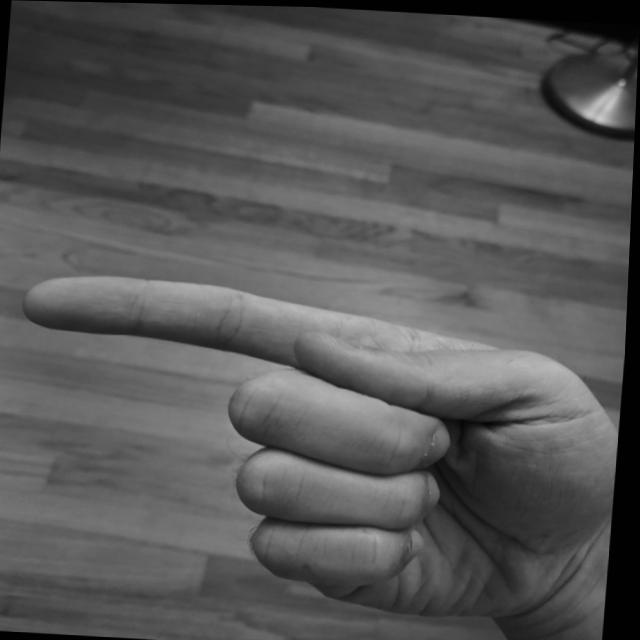G: (0, 262, 630, 632)
